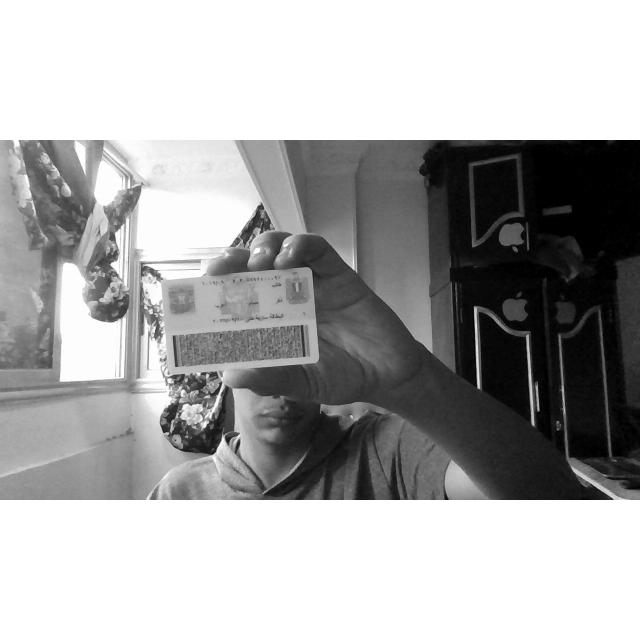back: (162, 268, 318, 374)
